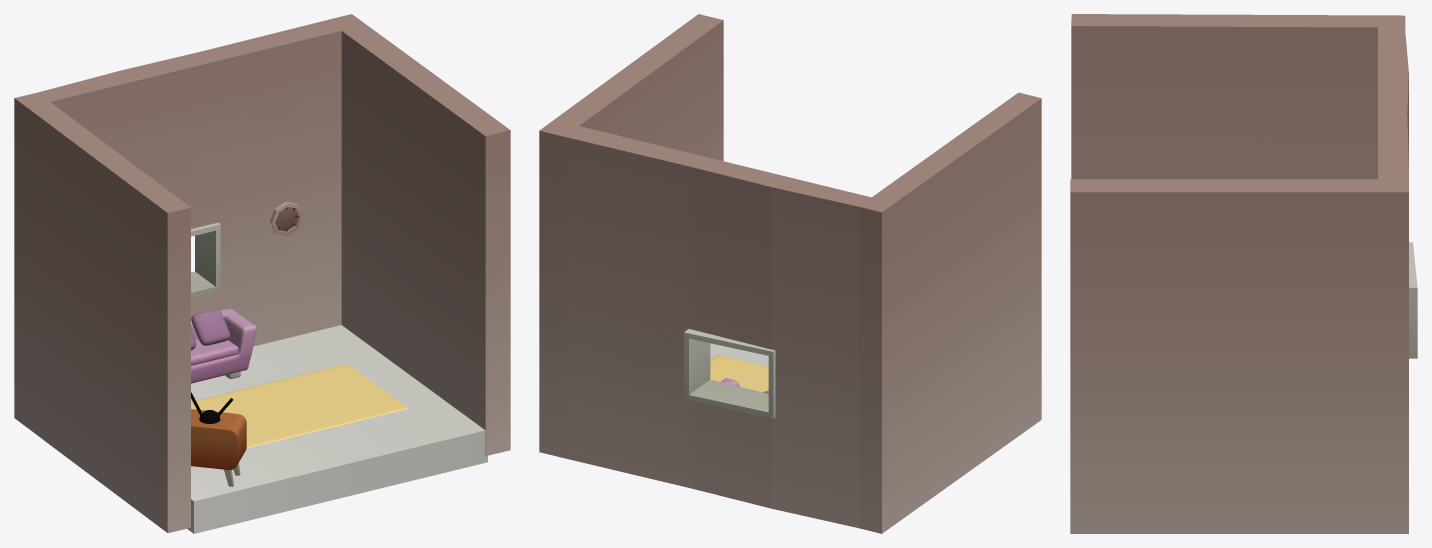
Rendered from sala text.fbx.
The picture shows the model from 3 angles, left to right: view 1: azimuth 30°, elevation 25°; view 2: azimuth 150°, elevation 25°; view 3: azimuth 270°, elevation 25°; orthographic projection. The views are drawn at different scales.
Visible parts, largest first — view 1: ParedSala, Piso.003, Tapete, Sofa grande, Televisor, Marco ventana, Almohada 3; view 2: ParedSala, Marco ventana, Tapete, Piso.003; view 3: ParedSala, Marco ventana.
Part boxes in pixels (x1,y1,x2,y2): ParedSala: (14,14,510,532); Piso.003: (187,325,487,533); Tapete: (191,364,407,448); Sofa grande: (191,308,256,383); Televisor: (191,409,246,469); Marco ventana: (191,222,220,297); Almohada 3: (191,309,230,345); ParedSala: (539,14,1041,533); Marco ventana: (684,329,775,418); Tapete: (710,355,768,392); Piso.003: (710,343,768,366); ParedSala: (1070,14,1408,533); Marco ventana: (1409,242,1417,358).
Bounding box in the file's own units: 824 × 752 × 678.
Materials: 1 (1 with a texture image).
